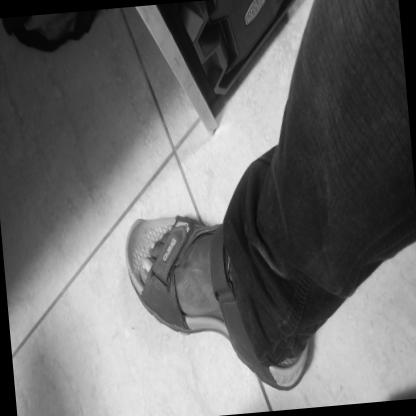ankle: (251, 310, 256, 319)
heel: (304, 358, 308, 365)
pinky: (179, 219, 182, 226)
right_foot: (124, 206, 316, 403)
toe: (144, 274, 148, 280)
